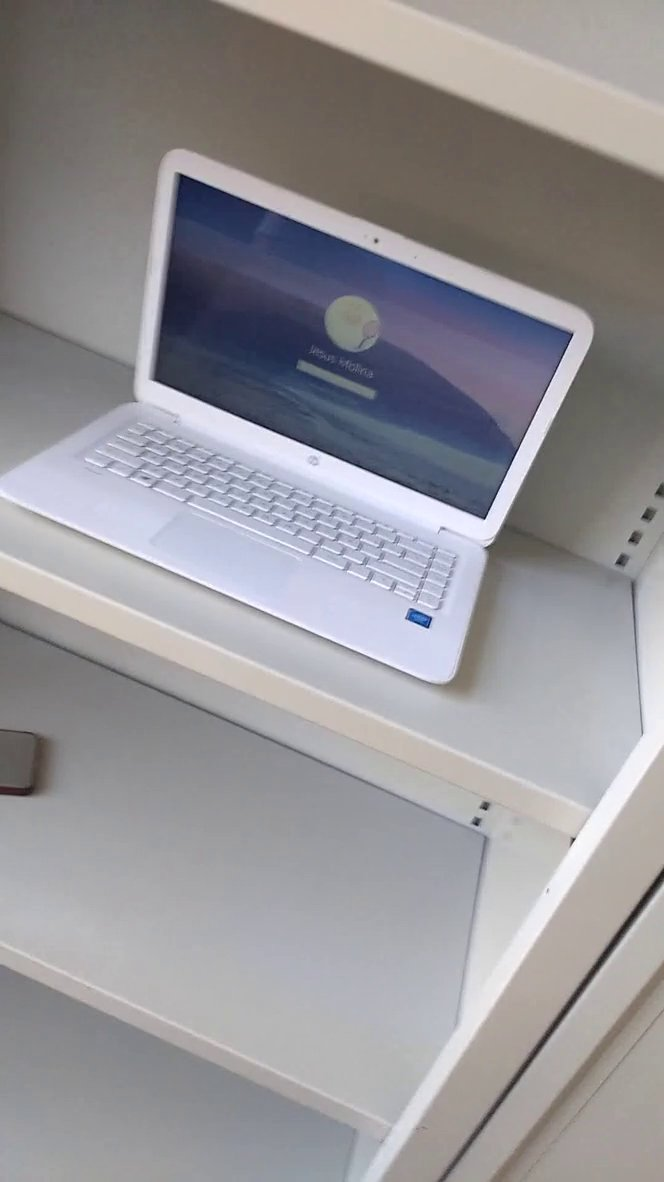laptop: (1, 137, 603, 711)
